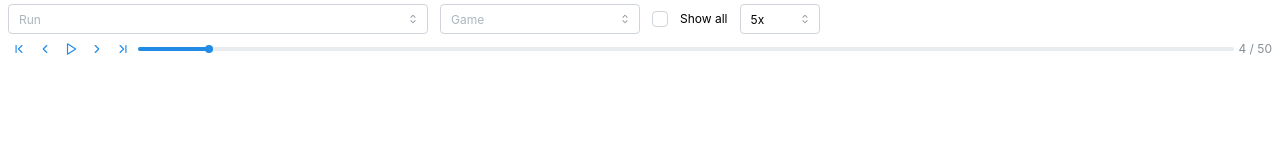
Test: TransportBar select handlers › play/pause with step range › play and pause cycle works
Click the button named "Play": x=71, y=49 [60, 38, 82, 60]
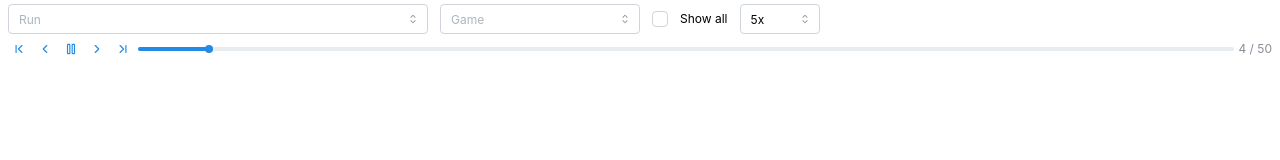
Check: the button named "Pause" is shown
Click the button named "Pause": x=71, y=49 [60, 38, 82, 60]
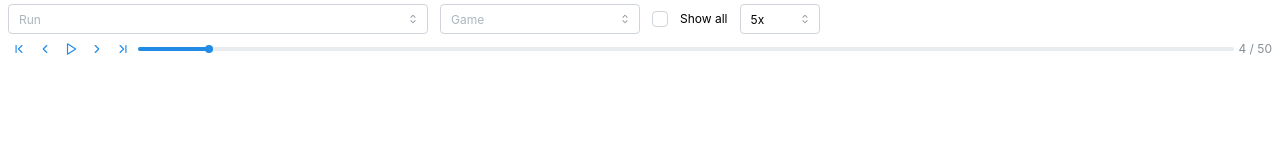
Check: the button named "Play" is shown, box [60, 38, 82, 60]
